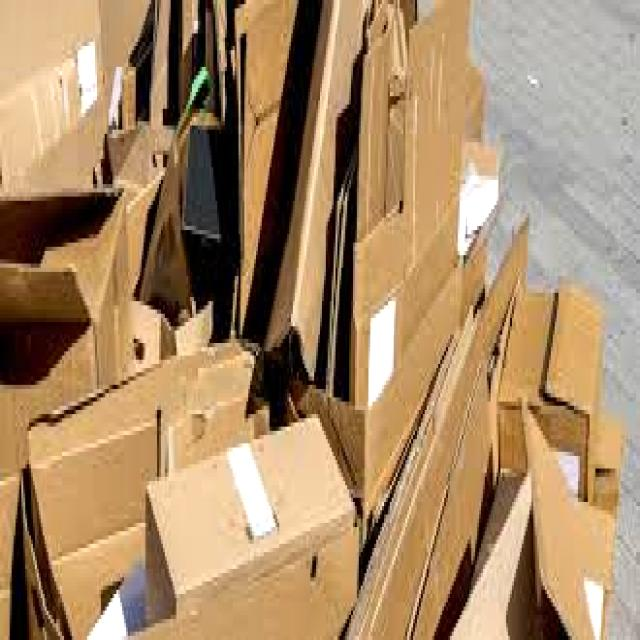Cardboard: (345, 250, 521, 640), (148, 412, 358, 638), (494, 273, 609, 501), (406, 0, 462, 239)
